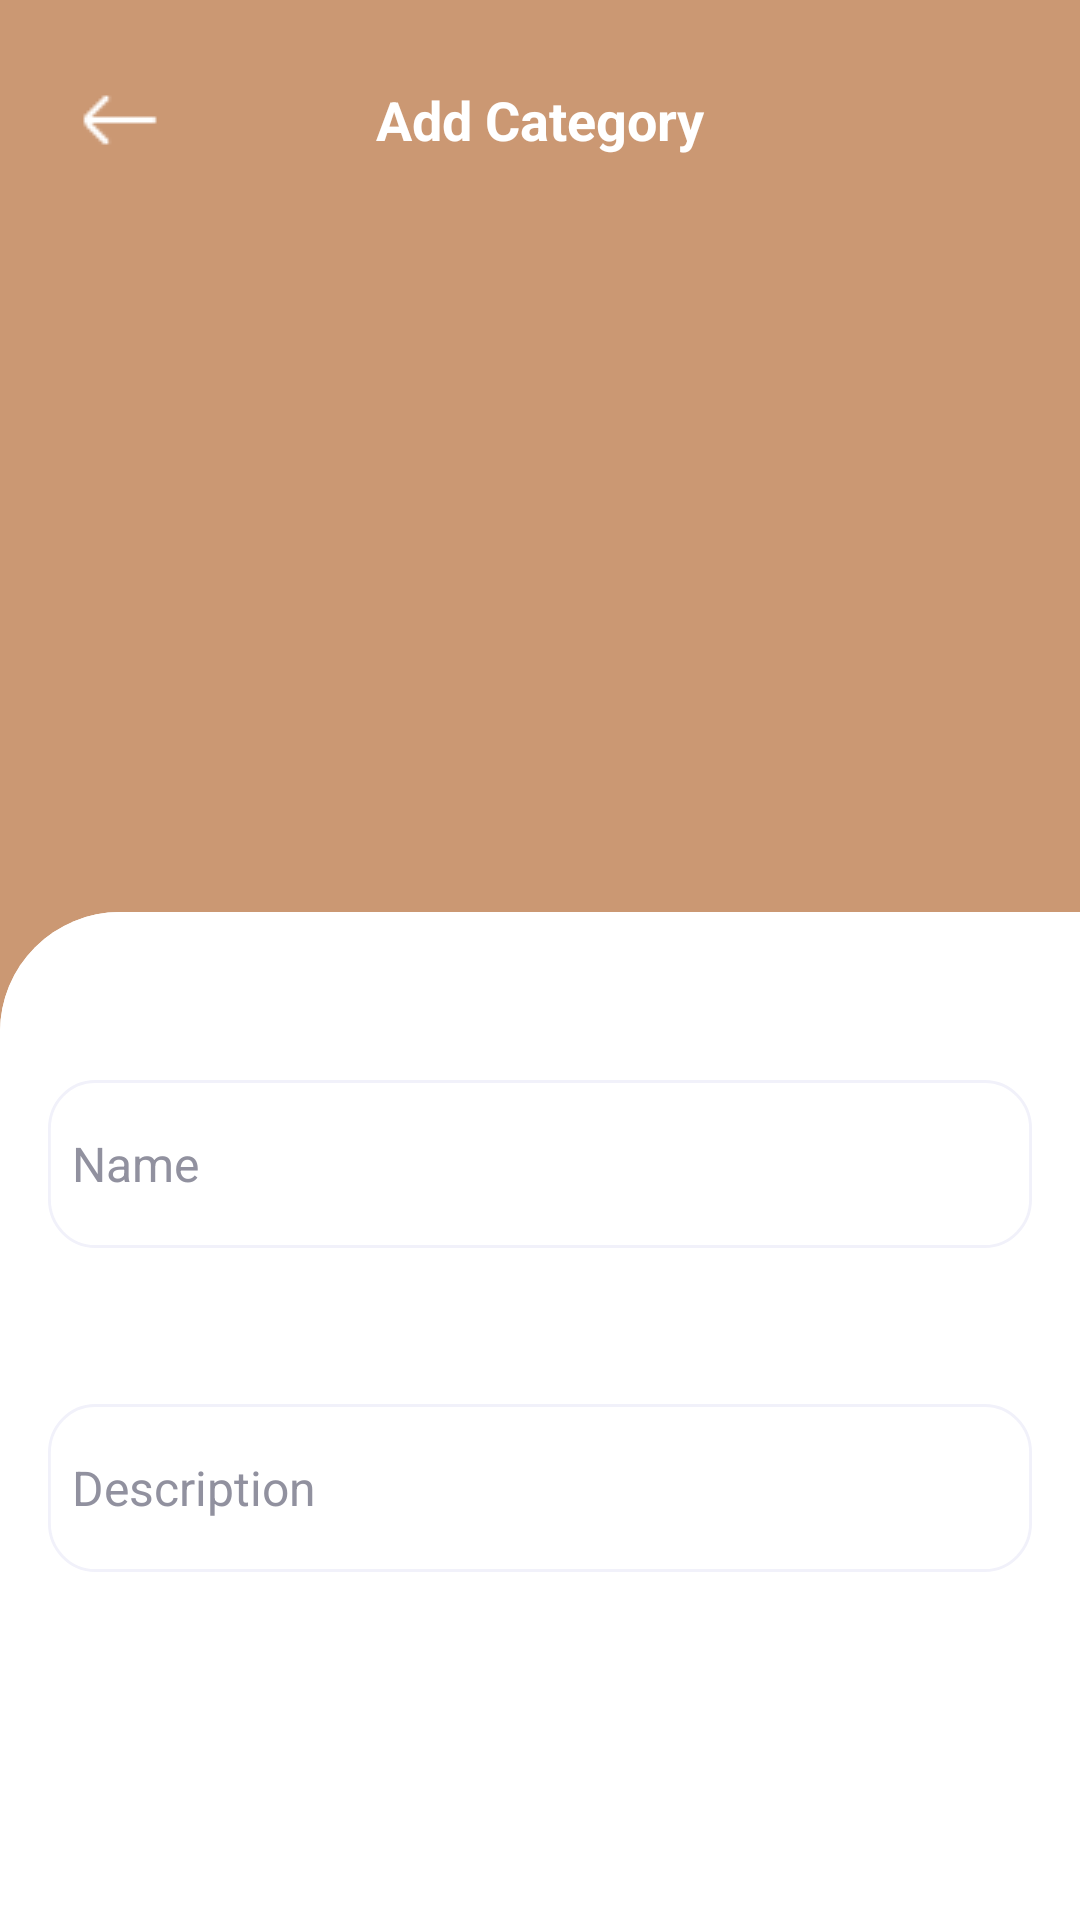

Icons on this 1080×1920 Android screen, each with the point to tap as (x,y):
arrow: (120,120)
